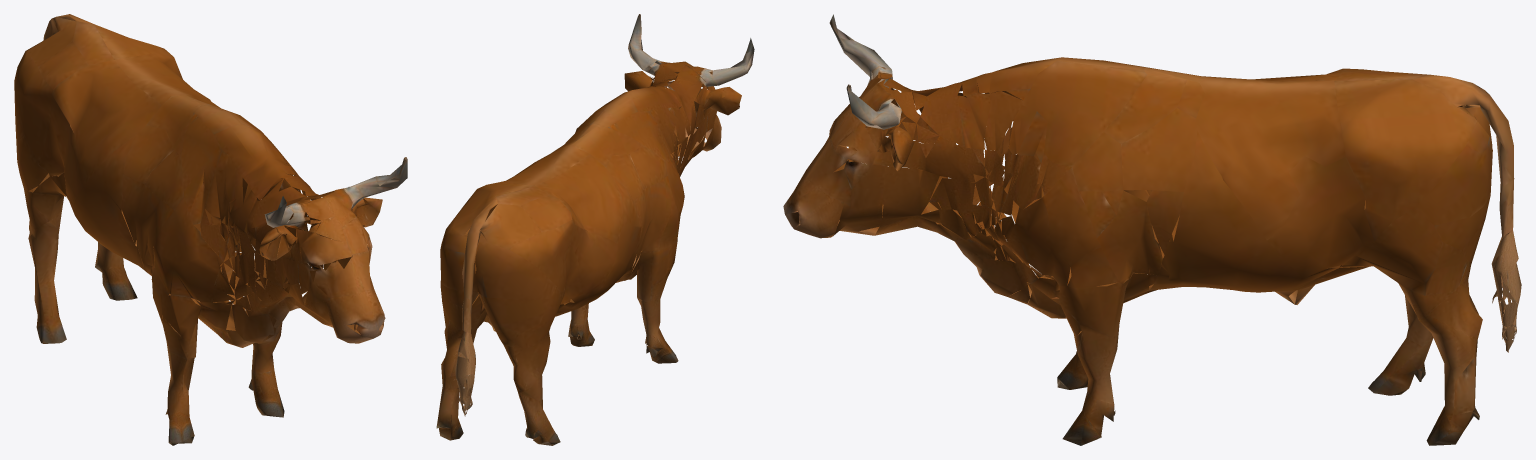
File: stier.glb
3 renders of one model, left to right at view 1: azimuth 30°, elevation 25°; view 2: azimuth 150°, elevation 25°; view 3: azimuth 270°, elevation 25°, orthographic. The views are drawn at different scales.
Bounding box in the file's own units: 0.5269 × 1.06 × 1.9.
Materials: 1 (1 with a texture image).
